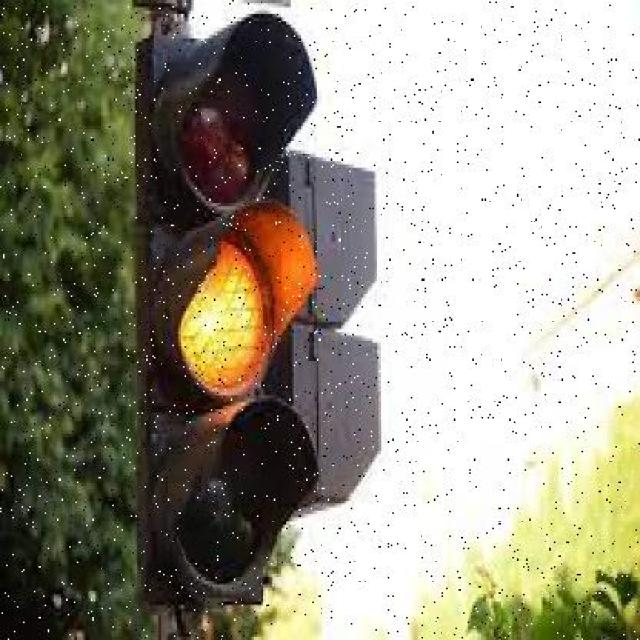yellow-light: (143, 2, 385, 604)
